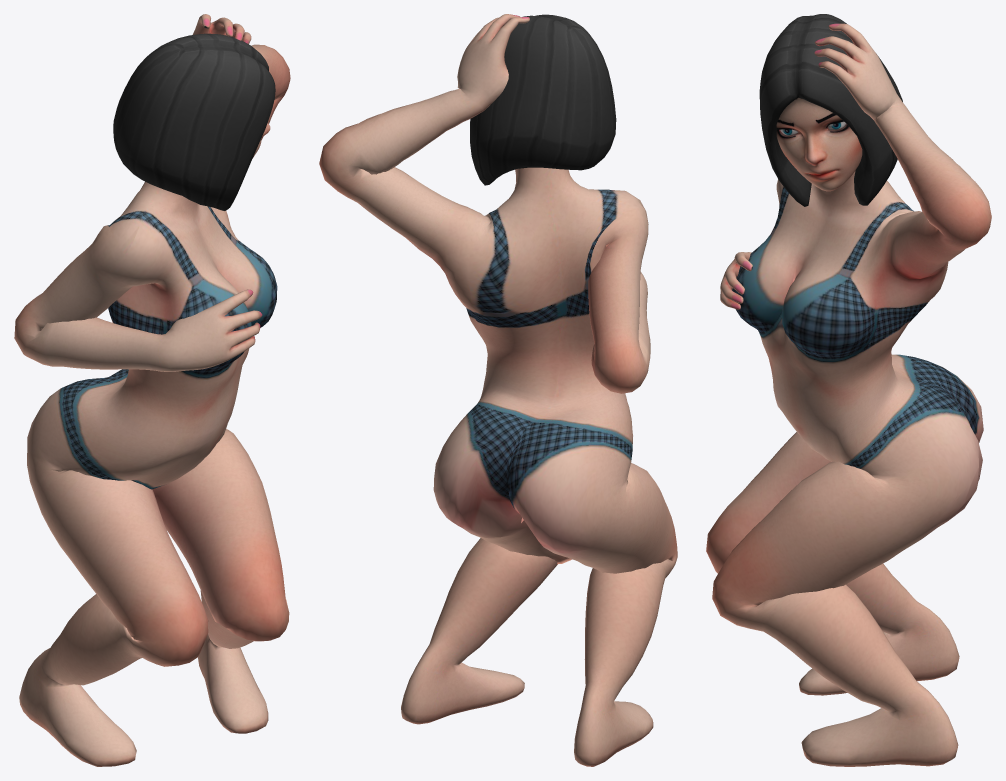
Rendered from PoseSkirtMannequinn.fbx.
3 renders of one model, left to right at view 1: azimuth 30°, elevation 25°; view 2: azimuth 150°, elevation 25°; view 3: azimuth 270°, elevation 25°, orthographic. The views are drawn at different scales.
Parts seen in each view (by area): view 1: FemaleBalıkEtli; view 2: FemaleBalıkEtli; view 3: FemaleBalıkEtli.
Boxes of the visible parts, x1,y1,x2,y2 form: FemaleBalıkEtli: [14, 14, 290, 766]; FemaleBalıkEtli: [319, 14, 677, 766]; FemaleBalıkEtli: [706, 14, 991, 766].
Size of the model in its own units: 10.78 by 24.54 by 8.85.
